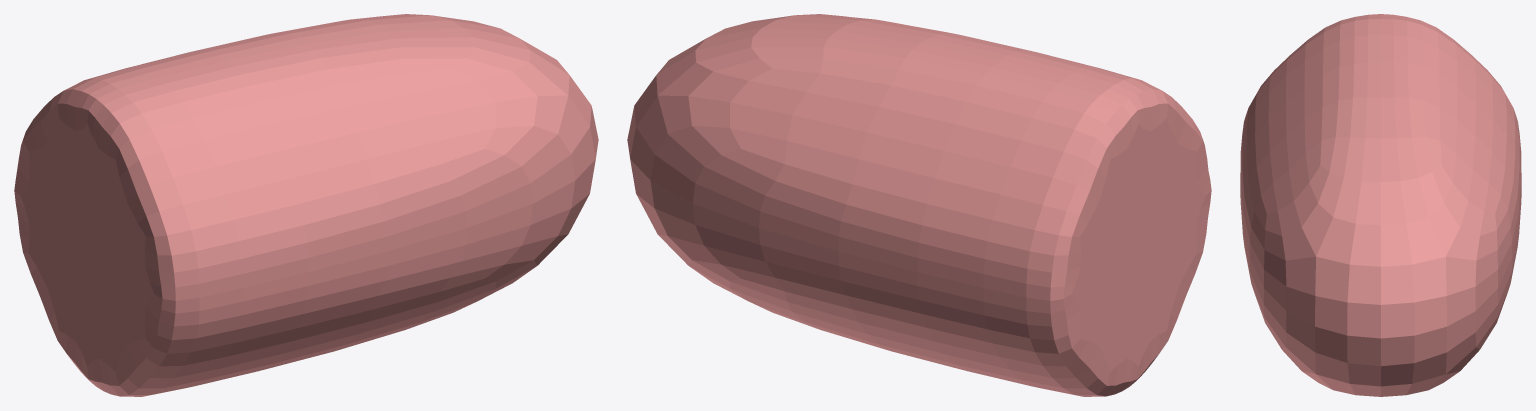
The model's file is SausageRight.fbx.
3 views of the same model, side by side, from view 1: azimuth 30°, elevation 25°; view 2: azimuth 150°, elevation 25°; view 3: azimuth 270°, elevation 25° (orthographic). The views are drawn at different scales.
Parts seen in each view (by area): view 1: СосискаПрав; view 2: СосискаПрав; view 3: СосискаПрав.
Boxes of the visible parts, x1,y1,x2,y2 form: СосискаПрав: [14, 14, 598, 396]; СосискаПрав: [627, 14, 1211, 396]; СосискаПрав: [1240, 14, 1521, 396].
Bounding box in the file's own units: 172 × 99.4 × 99.4.
